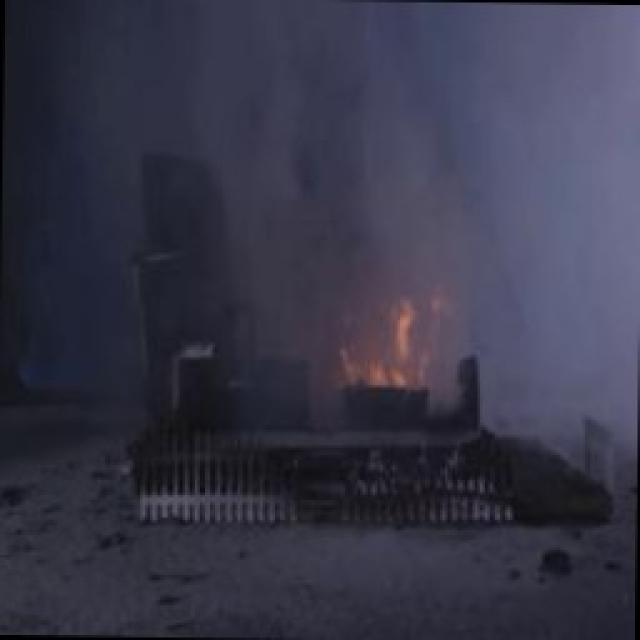fire: (328, 264, 460, 424)
smoke: (242, 0, 640, 290)
